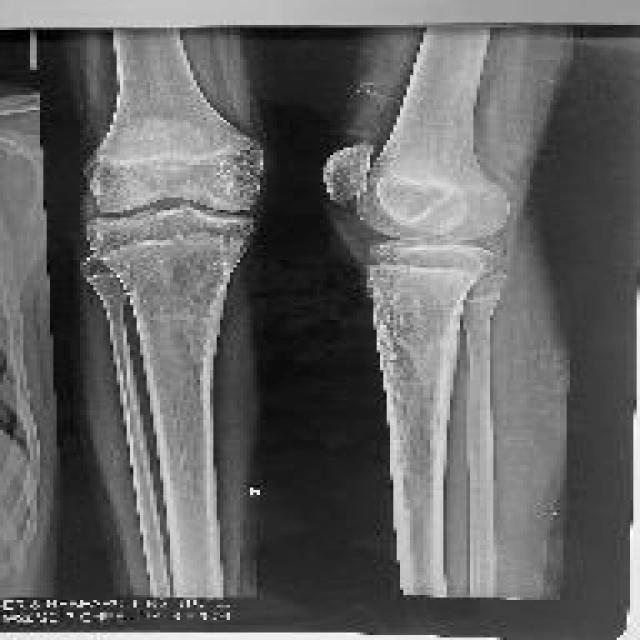bone-cancer: (153, 227, 244, 384), (376, 275, 460, 432)
